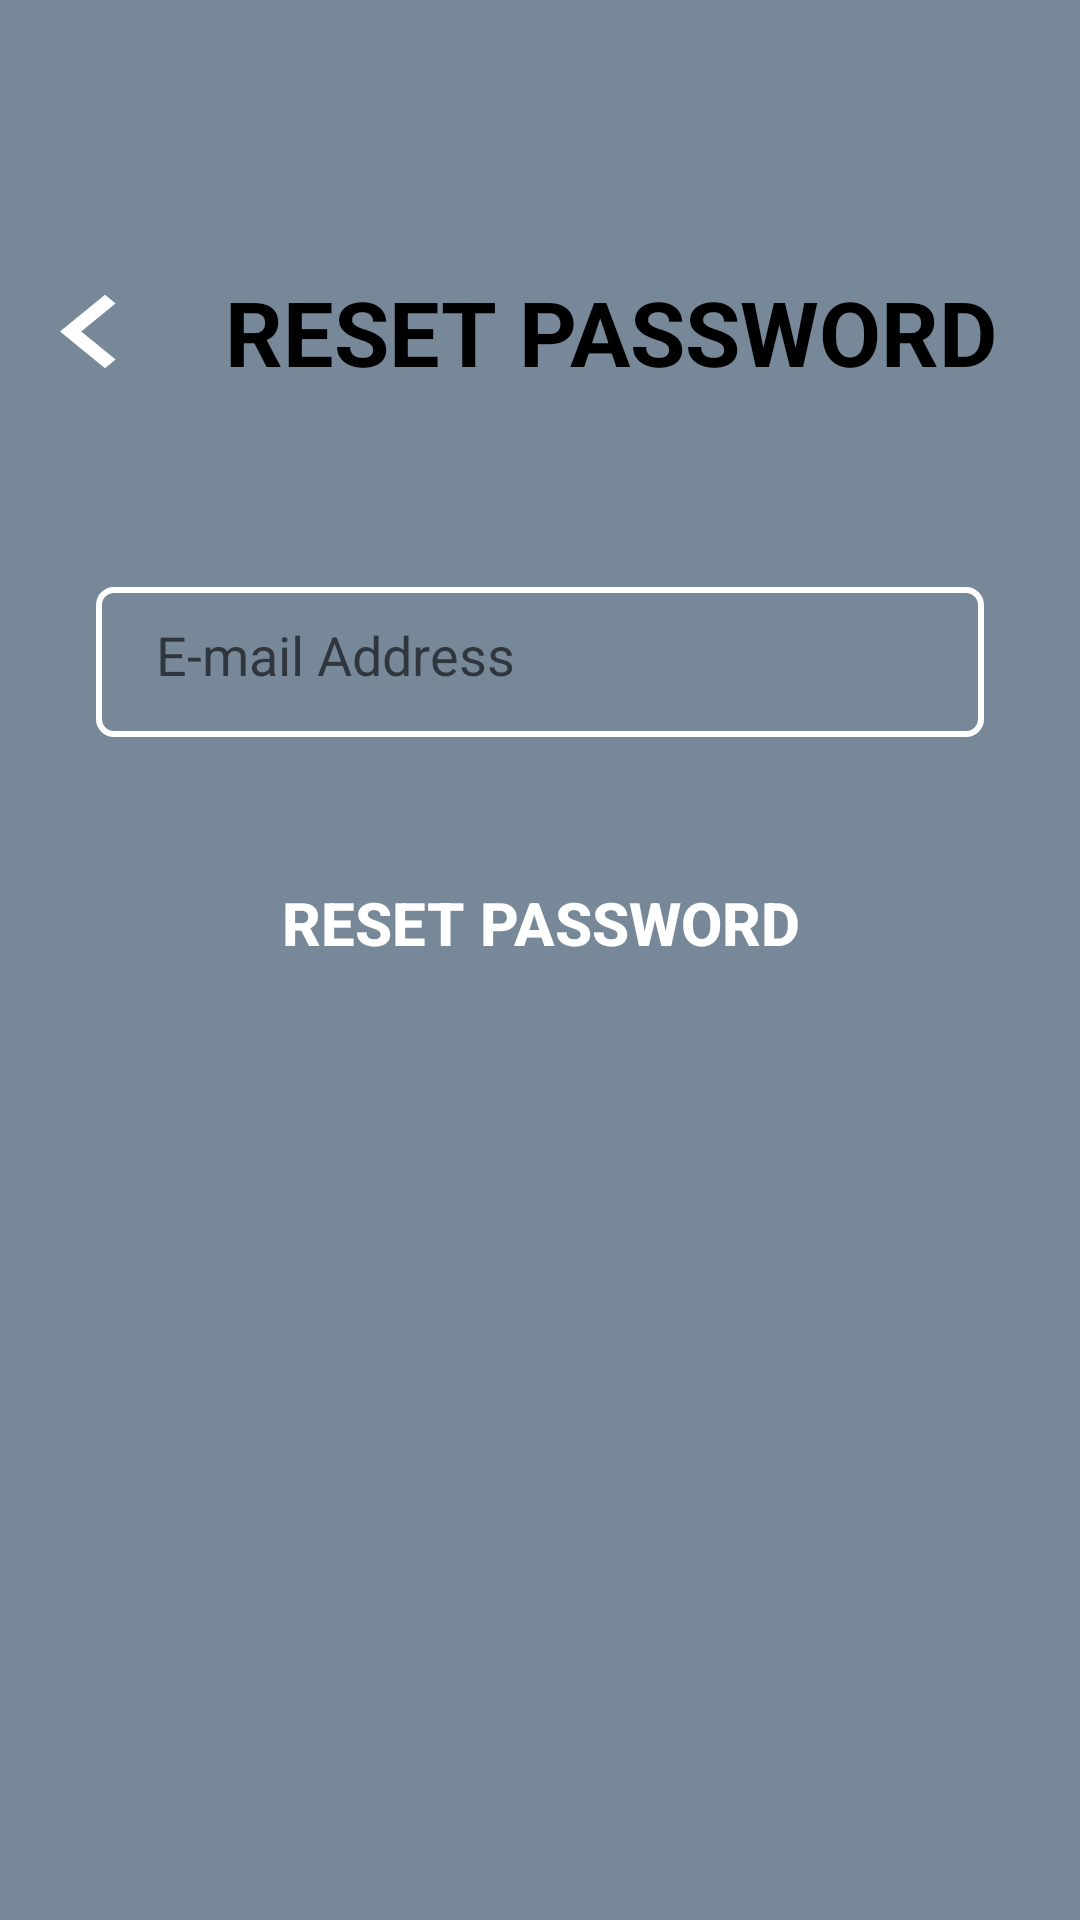

Screen size 1080px x 1920px. Icon name, then its box in pixels as {"x1": x1, "y1": y1, "x2": x2, "y2": y2}:
chevron left: {"x1": 60, "y1": 295, "x2": 116, "y2": 368}
